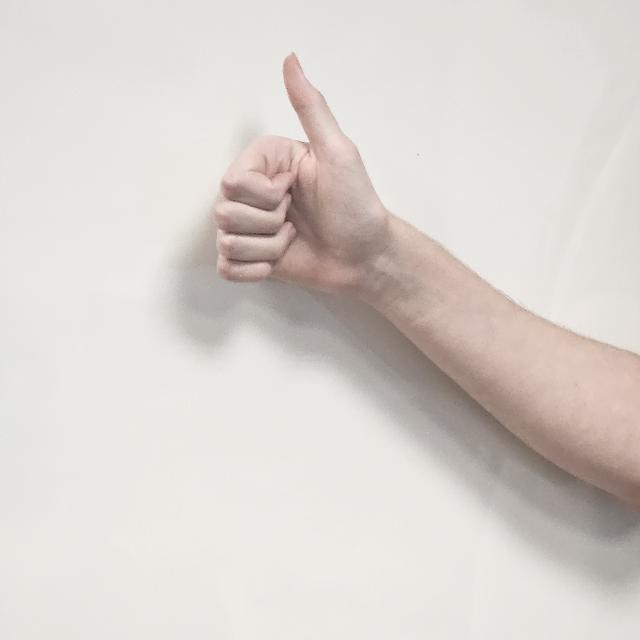Start: (212, 52, 390, 328)
